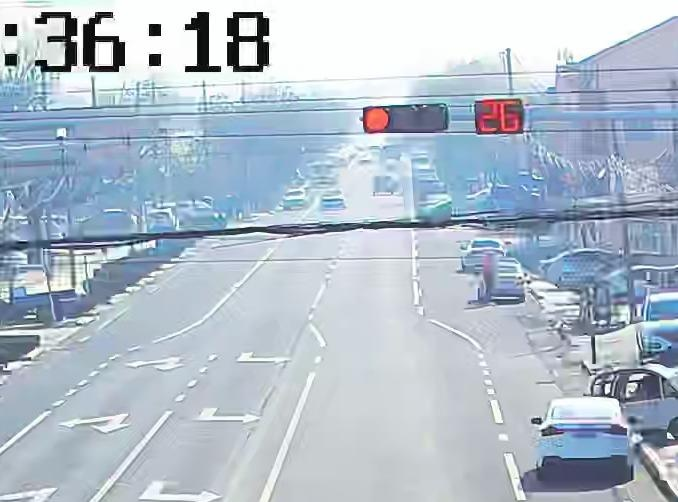red: (363, 106, 392, 134)
redtime: (477, 99, 521, 135)
